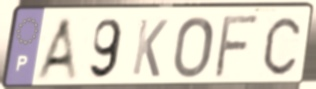9: (87, 16, 124, 81)
A: (33, 15, 81, 84)
C: (261, 15, 303, 78)
F: (211, 13, 264, 81)
K: (129, 17, 170, 80)
O: (171, 14, 216, 81)
